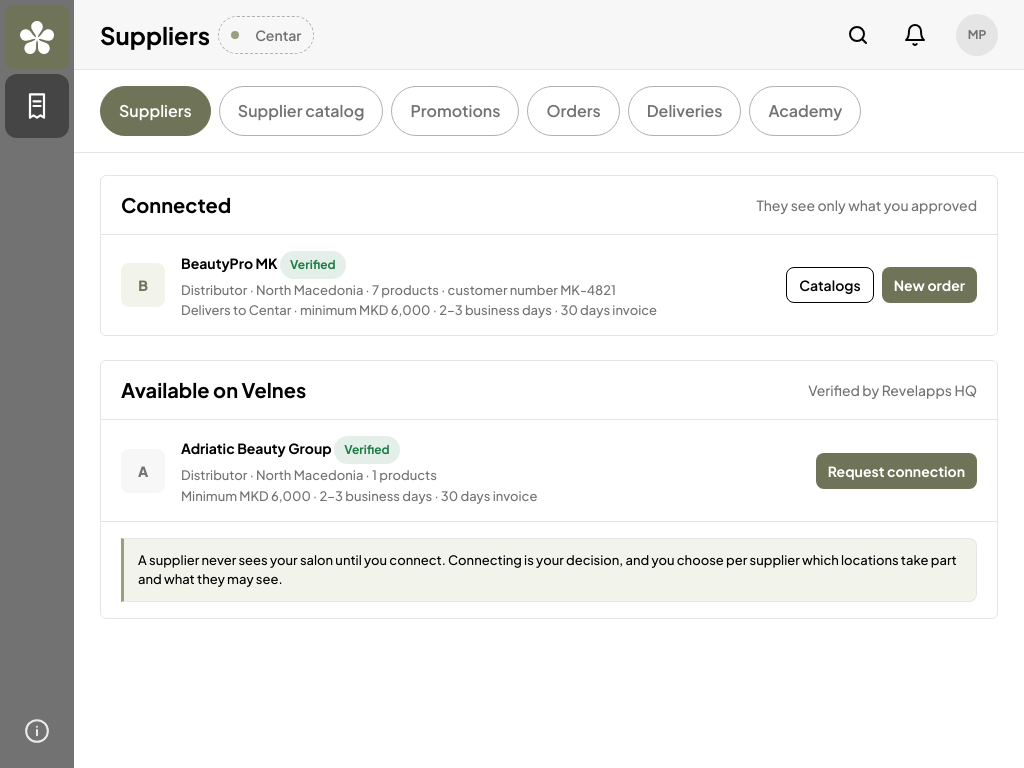
suppliers › shows the supplier’s decline reason on a cancelled order
The width and height of the screenshot is (1024, 768).
Click the button "Orders": click(574, 111) [527,86,620,136]
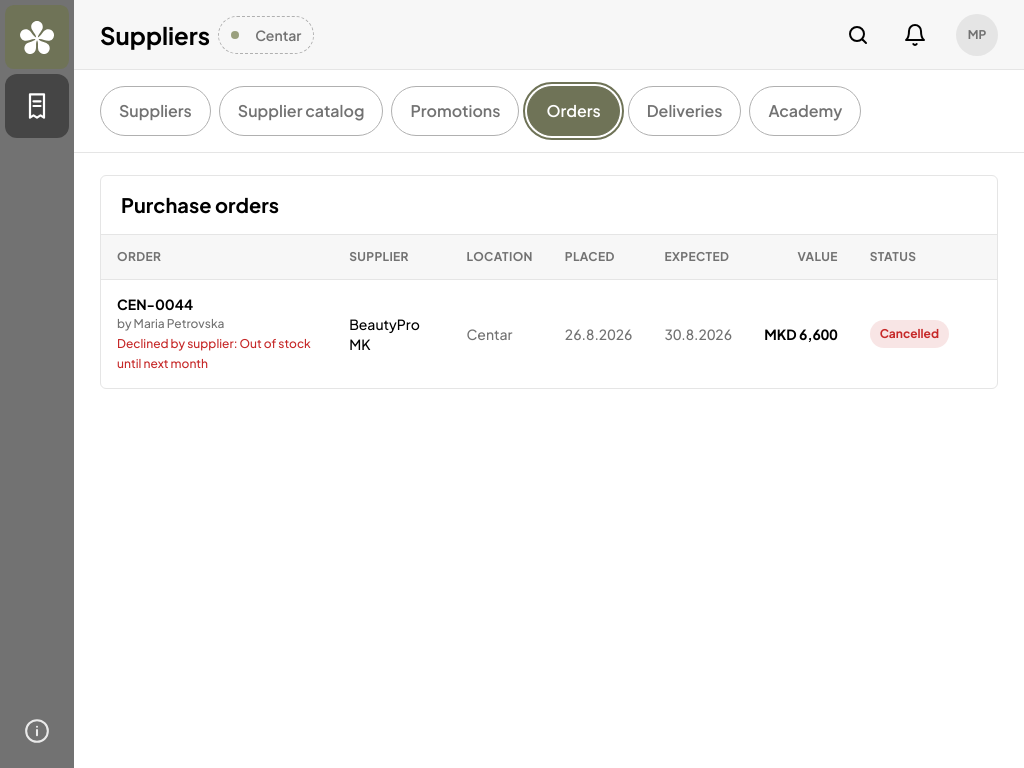
Expected: the text "Declined by supplier: Out of stock until next month" is shown, [117,334,317,374]
